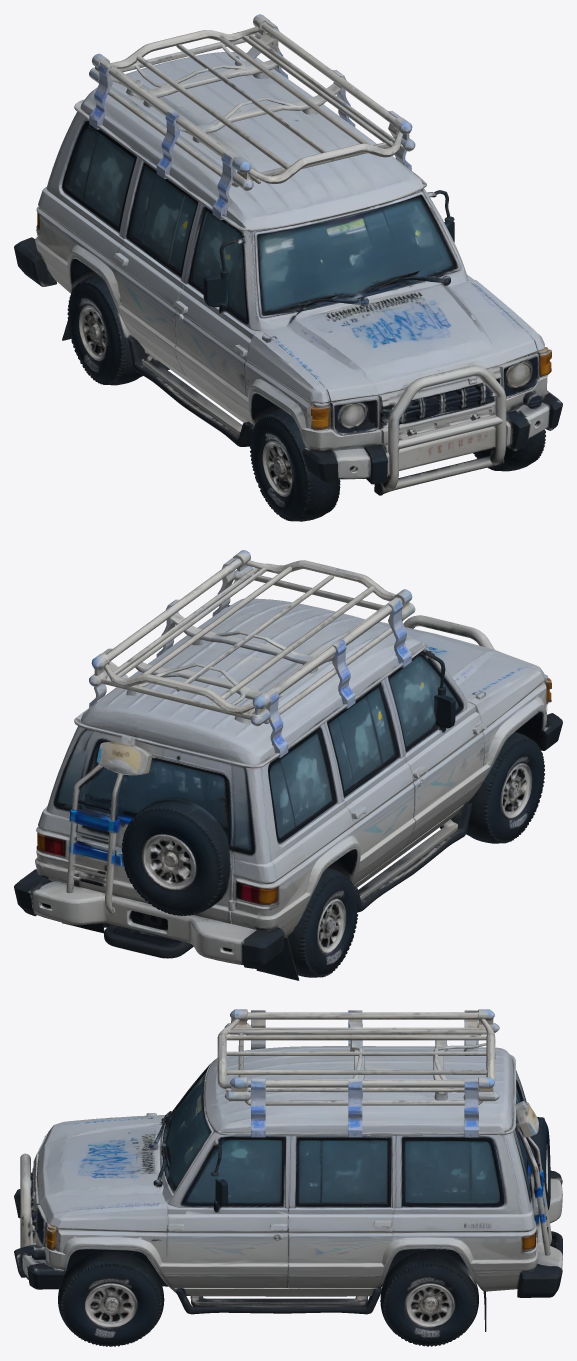
The model's file is galloper.glb.
3 views of the same model, one above another, from view 1: azimuth 30°, elevation 25°; view 2: azimuth 150°, elevation 25°; view 3: azimuth 270°, elevation 25° (orthographic). The views are drawn at different scales.
Visible parts, largest first — view 1: Object_2; view 2: Object_2; view 3: Object_2.
Part boxes in pixels (x1,y1,x2,y2): Object_2: (14,14,562,521); Object_2: (14,550,562,980); Object_2: (14,1009,562,1346).
Bounding box in the file's own units: 0.4981 × 0.5563 × 1.08.
1 material, 1 textured.
